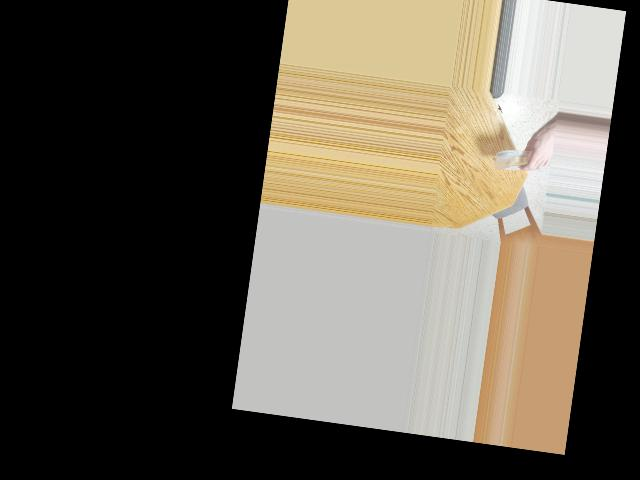cheese: (491, 129, 544, 183)
